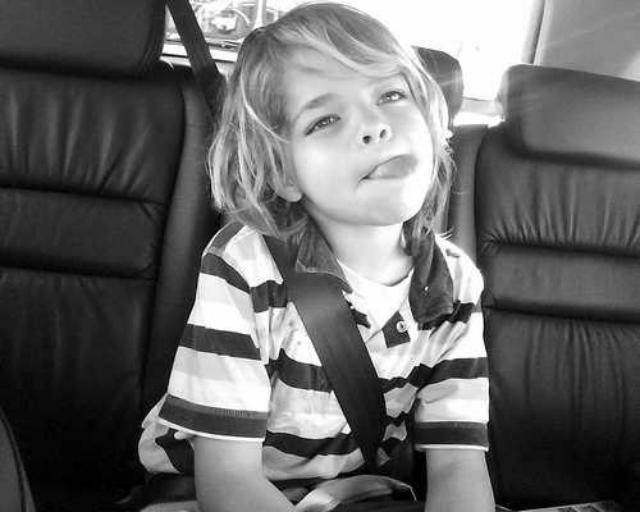SafeDriving: (298, 100, 349, 144), (370, 77, 416, 114)
Seatbelt: (160, 0, 392, 478)
